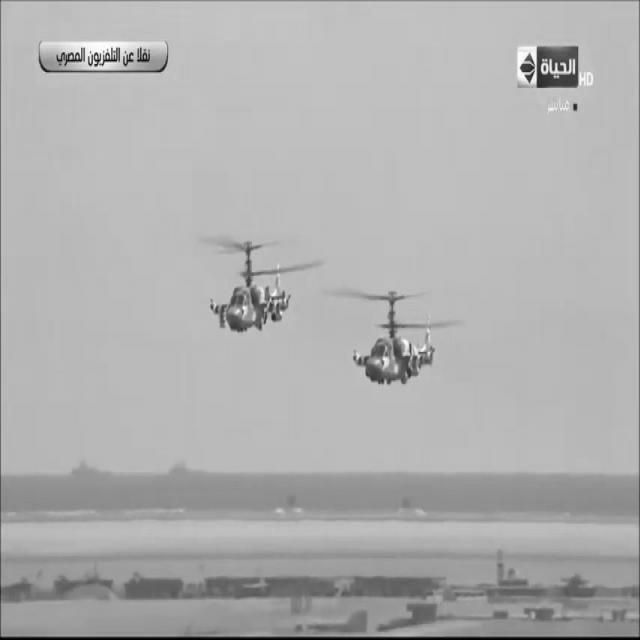helikopter: (336, 284, 437, 398), (205, 233, 295, 349)
